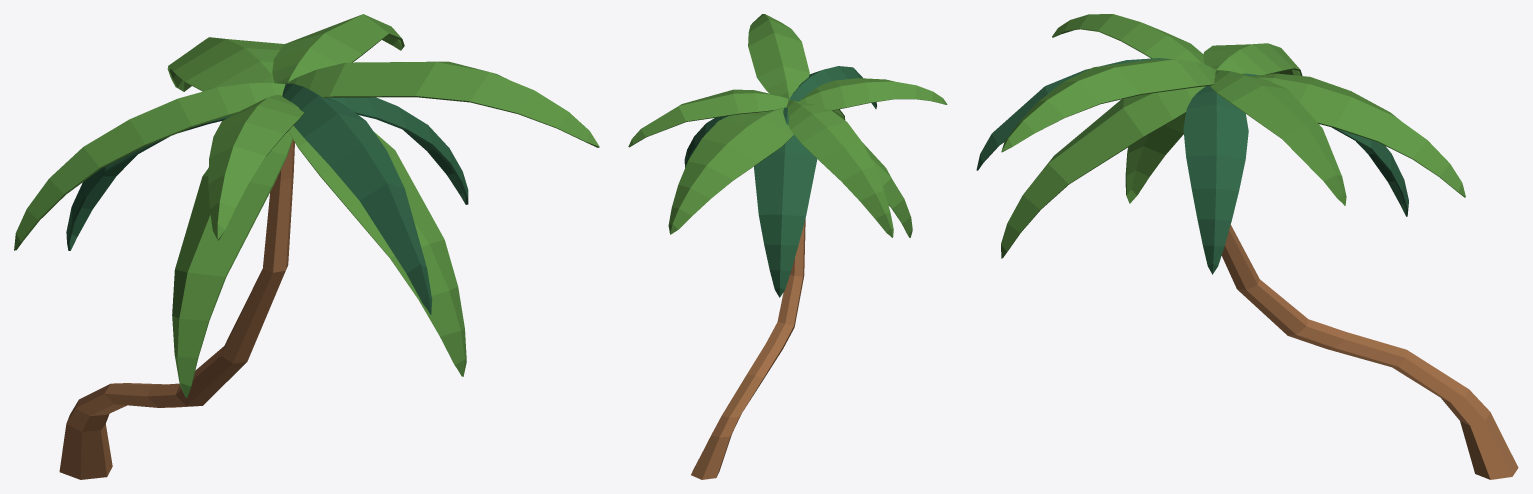
Rendered from PalmTree_2.glb.
3 views of the same model, side by side, from view 1: azimuth 30°, elevation 25°; view 2: azimuth 150°, elevation 25°; view 3: azimuth 270°, elevation 25° (orthographic). The views are drawn at different scales.
Parts seen in each view (by area): view 1: PalmTree_2_Cylinder.039; view 2: PalmTree_2_Cylinder.039; view 3: PalmTree_2_Cylinder.039.
Part boxes in pixels (box(x1,y1,x2,y2)): PalmTree_2_Cylinder.039: box(14, 14, 599, 479); PalmTree_2_Cylinder.039: box(628, 14, 947, 479); PalmTree_2_Cylinder.039: box(976, 14, 1518, 479).
Bounding box in the file's own units: 2.32 × 2.91 × 3.18.
